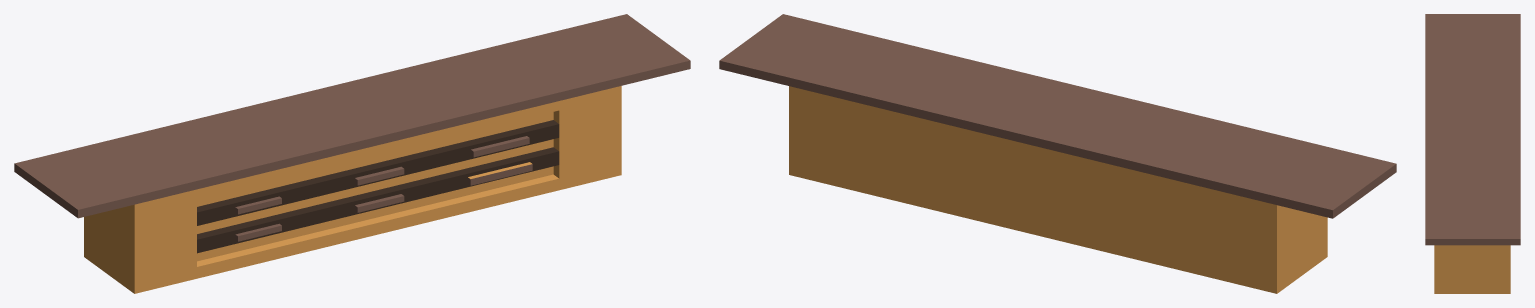
Rendered from longcupboard.fbx.
3 views of the same model, side by side, from view 1: azimuth 30°, elevation 25°; view 2: azimuth 150°, elevation 25°; view 3: azimuth 270°, elevation 25° (orthographic). The views are drawn at different scales.
Parts seen in each view (by area): view 1: Cube.010; view 2: Cube.010; view 3: Cube.010.
Boxes of the visible parts, bbox=[...] form: Cube.010: bbox=[14, 14, 690, 293]; Cube.010: bbox=[719, 14, 1396, 293]; Cube.010: bbox=[1425, 14, 1520, 293].
Bounding box in the file's own units: 3369 × 546 × 606.
